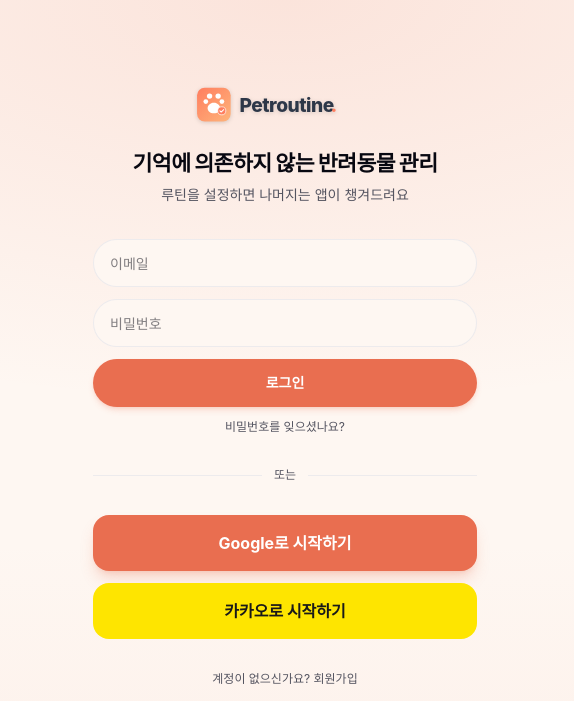
Test: LoginPage › 비밀번호 찾기 링크 클릭 시 재설정 폼이 표시된다
Click the button "비밀번호를 잊으셨나요?" at (285, 427), box [93,419,477,435]
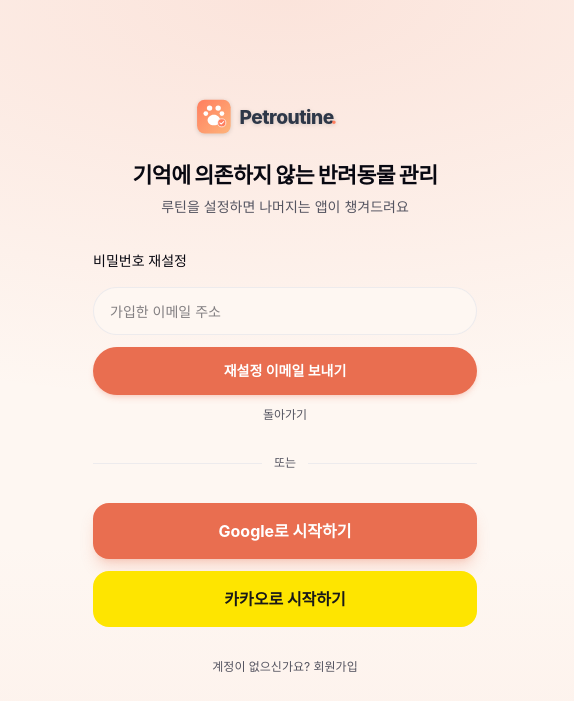
Check: the text "비밀번호 재설정" is shown, box [93,252,187,269]
Check: the field with placeholder "가입한 이메일 주소" is shown, box [93,287,477,335]
